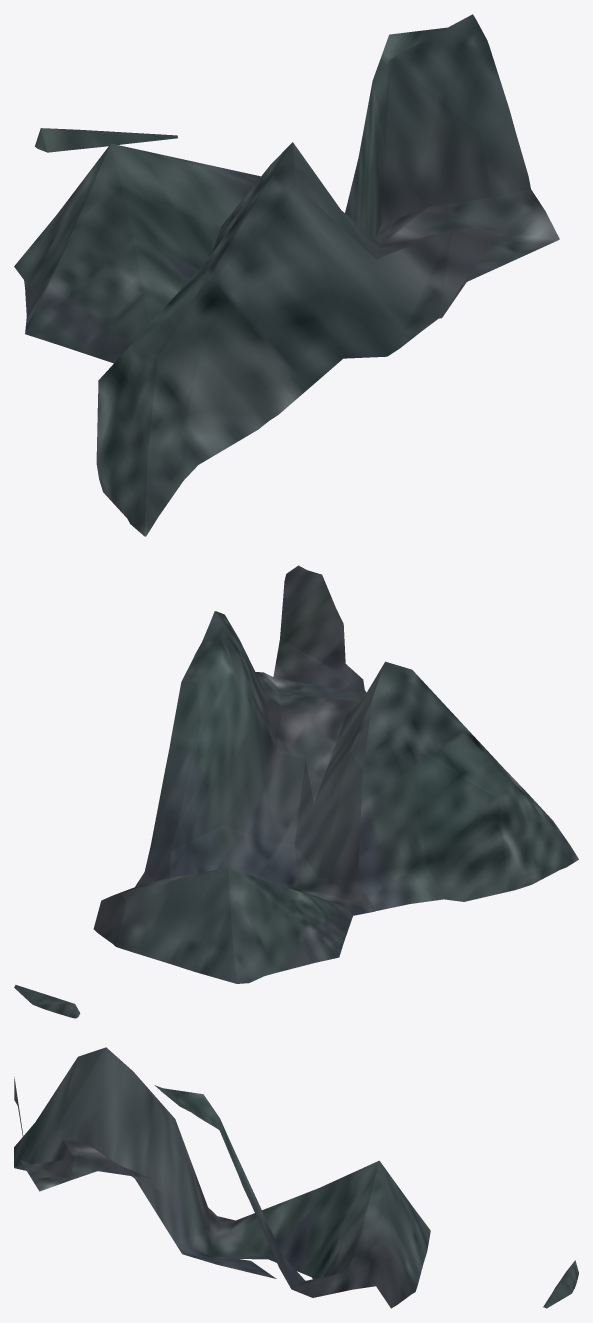
The model's file is Tile_+009_+007_L19_00430.glb.
3 renders of one model, top to bottom at view 1: azimuth 30°, elevation 25°; view 2: azimuth 150°, elevation 25°; view 3: azimuth 270°, elevation 25°, orthographic. The views are drawn at different scales.
Visible parts, largest first — view 1: rtc; view 2: rtc; view 3: rtc.
Boxes of the visible parts, x1=… form: rtc: x1=14, y1=14, x2=559, y2=536; rtc: x1=14, y1=565, x2=578, y2=1018; rtc: x1=14, y1=1047, x2=578, y2=1308.
Bounding box in the file's own units: 6.8 × 5.08 × 11.62.
Materials: 1 (1 with a texture image).
